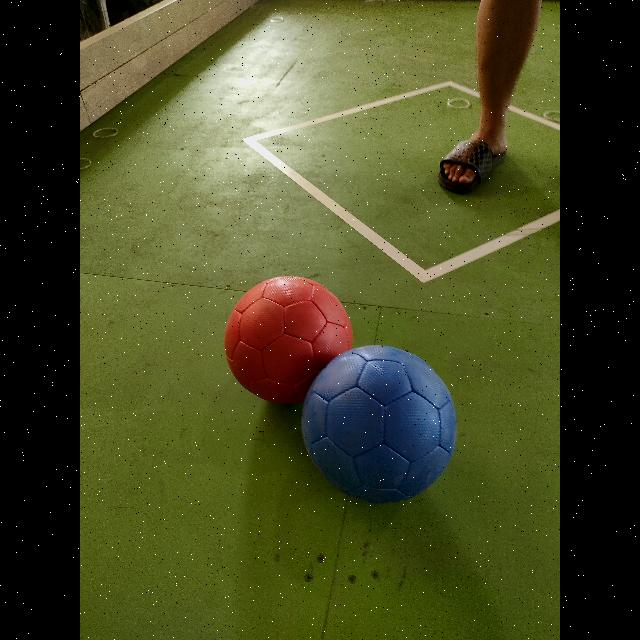B: (300, 346, 458, 507)
R: (223, 277, 354, 408)
